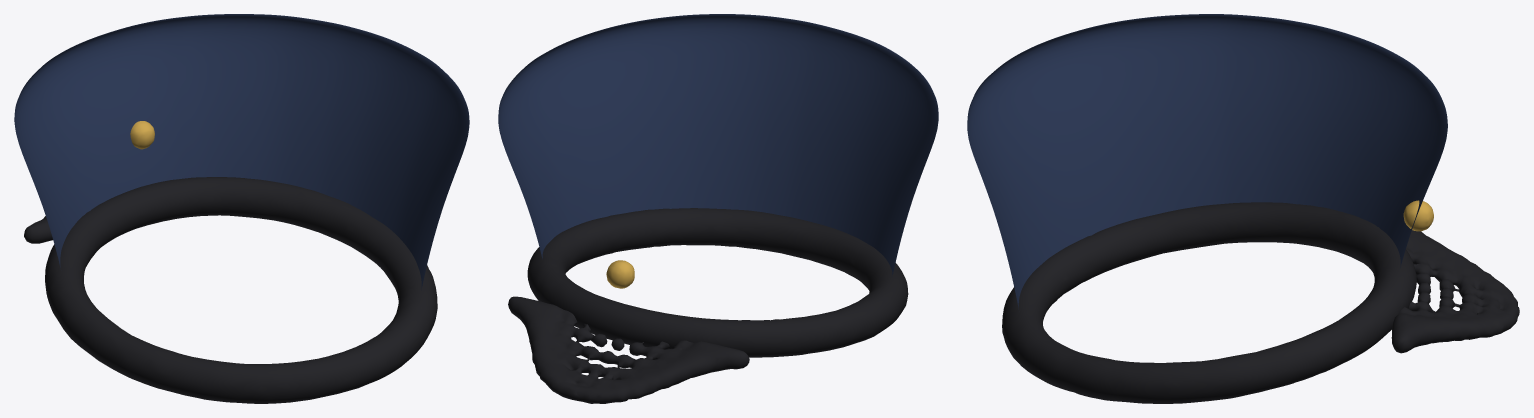
File: cap_driver_m.glb
3 renders of one model, left to right at view 1: azimuth 30°, elevation 25°; view 2: azimuth 150°, elevation 25°; view 3: azimuth 270°, elevation 25°, orthographic. The views are drawn at different scales.
Visible parts, largest first — view 1: Acc_cap_driver_Cap, Acc_cap_driver_CapBand, Acc_cap_driver_CapBadge, Acc_cap_driver_CapVisor; view 2: Acc_cap_driver_Cap, Acc_cap_driver_CapBand, Acc_cap_driver_CapVisor, Acc_cap_driver_CapBadge; view 3: Acc_cap_driver_Cap, Acc_cap_driver_CapBand, Acc_cap_driver_CapVisor, Acc_cap_driver_CapBadge.
Part boxes in pixels (<box>): Acc_cap_driver_Cap: <box>14,14,469,290</box>; Acc_cap_driver_CapBand: <box>45,177,437,403</box>; Acc_cap_driver_CapBadge: <box>130,121,154,149</box>; Acc_cap_driver_CapVisor: <box>24,216,52,243</box>; Acc_cap_driver_Cap: <box>498,14,938,276</box>; Acc_cap_driver_CapBand: <box>527,208,908,357</box>; Acc_cap_driver_CapVisor: <box>508,296,749,403</box>; Acc_cap_driver_CapBadge: <box>606,260,634,288</box>; Acc_cap_driver_Cap: <box>967,14,1447,309</box>; Acc_cap_driver_CapBand: <box>1002,202,1416,403</box>; Acc_cap_driver_CapVisor: <box>1391,230,1519,353</box>; Acc_cap_driver_CapBadge: <box>1403,200,1433,231</box>.
Size of the model in its own units: 0.4208 by 0.2441 by 0.491.
